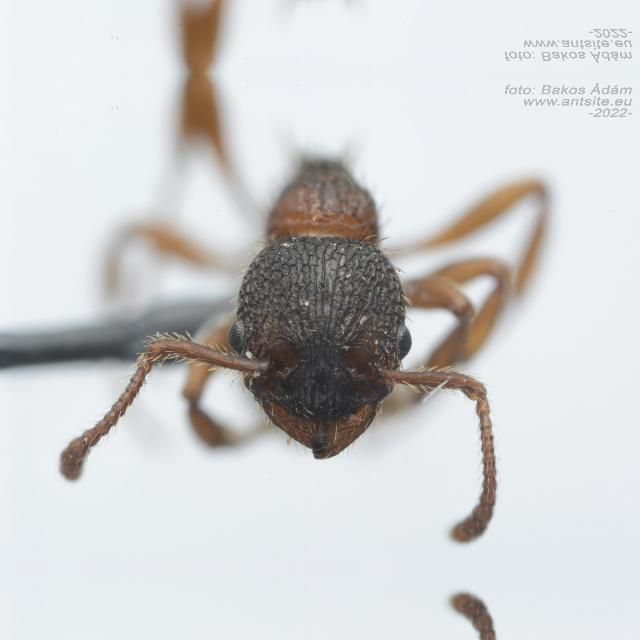Myrmica: (72, 117, 600, 515)
